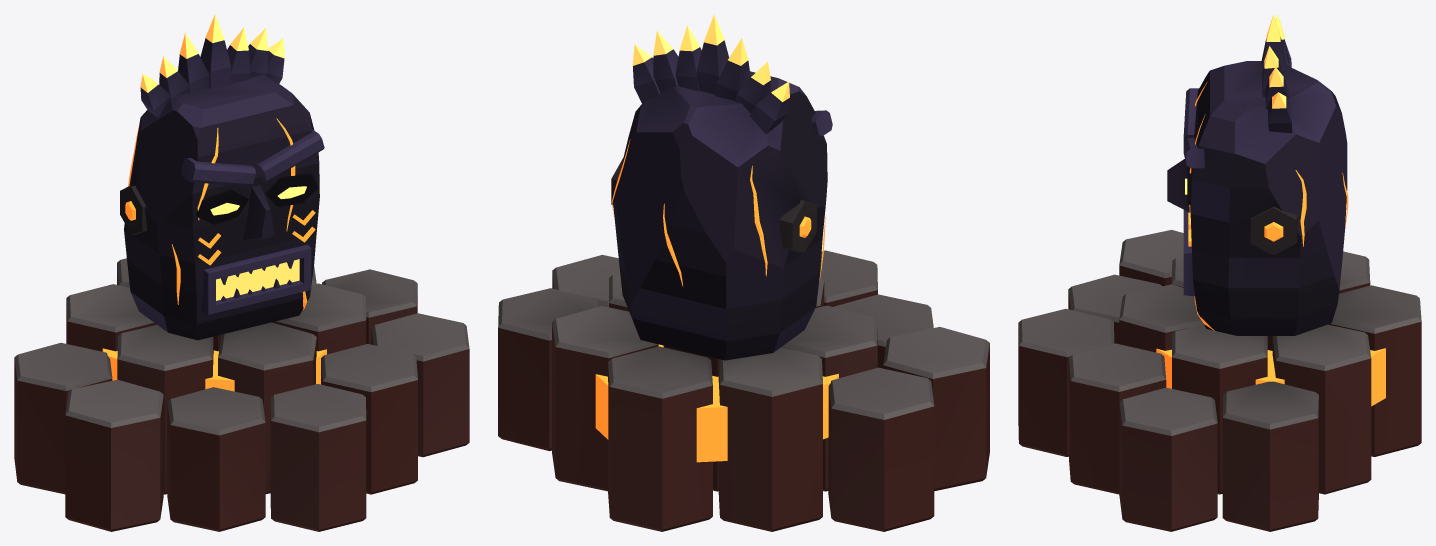
File: fire_idol.glb
3 renders of one model, left to right at view 1: azimuth 30°, elevation 25°; view 2: azimuth 150°, elevation 25°; view 3: azimuth 270°, elevation 25°, orthographic. The views are drawn at different scales.
Parts seen in each view (by area): view 1: fire_idol; view 2: fire_idol; view 3: fire_idol.
Boxes of the visible parts, x1,y1,x2,y2 form: fire_idol: (14, 14, 469, 531); fire_idol: (498, 14, 989, 531); fire_idol: (1018, 14, 1421, 531).
Size of the model in its own units: 8 by 8.01 by 6.94.
